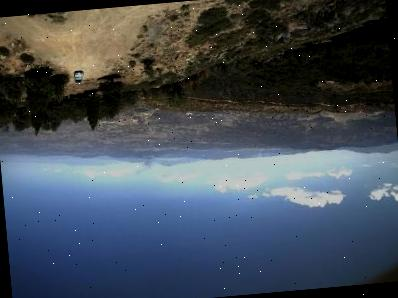smoke: (133, 153, 159, 175)
